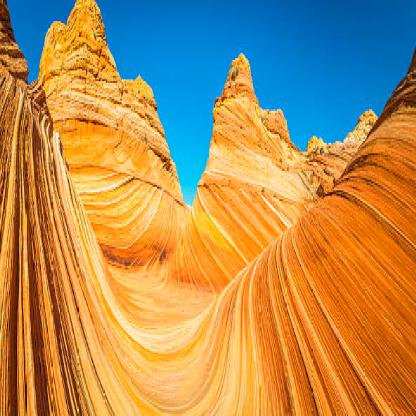Sedimentary_Sandstone: (214, 49, 258, 136), (266, 99, 292, 171)
